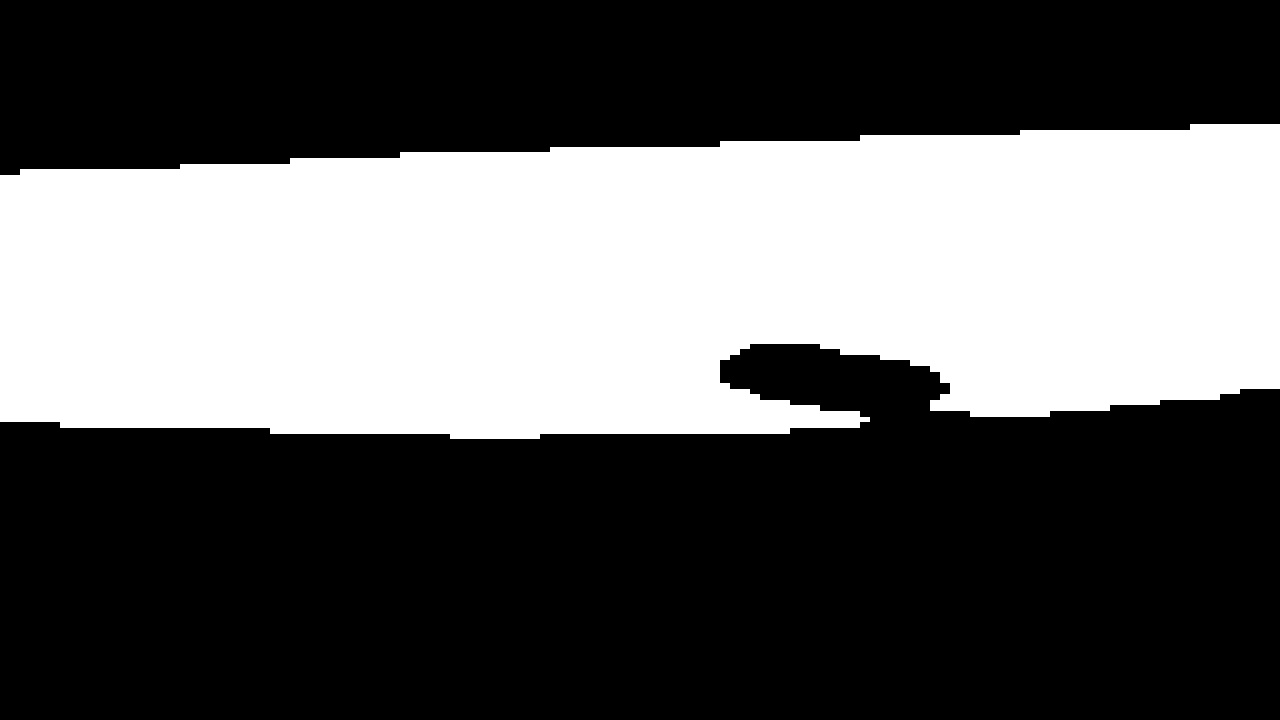Turbine: (6, 94, 1271, 438)
